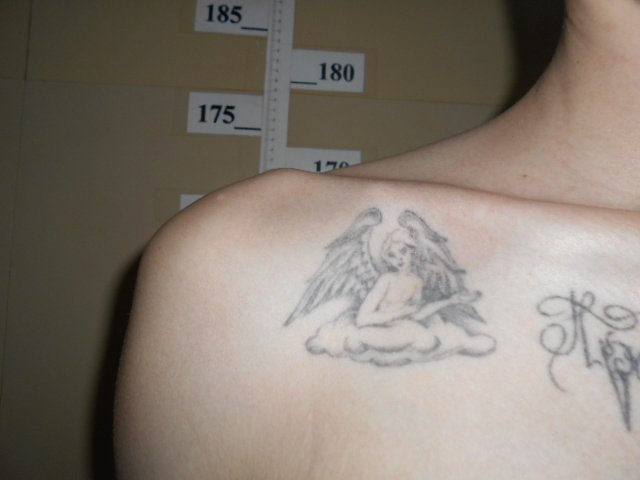tatu1_angel: (277, 198, 505, 366)
tatu3_bukva: (533, 285, 639, 438)
